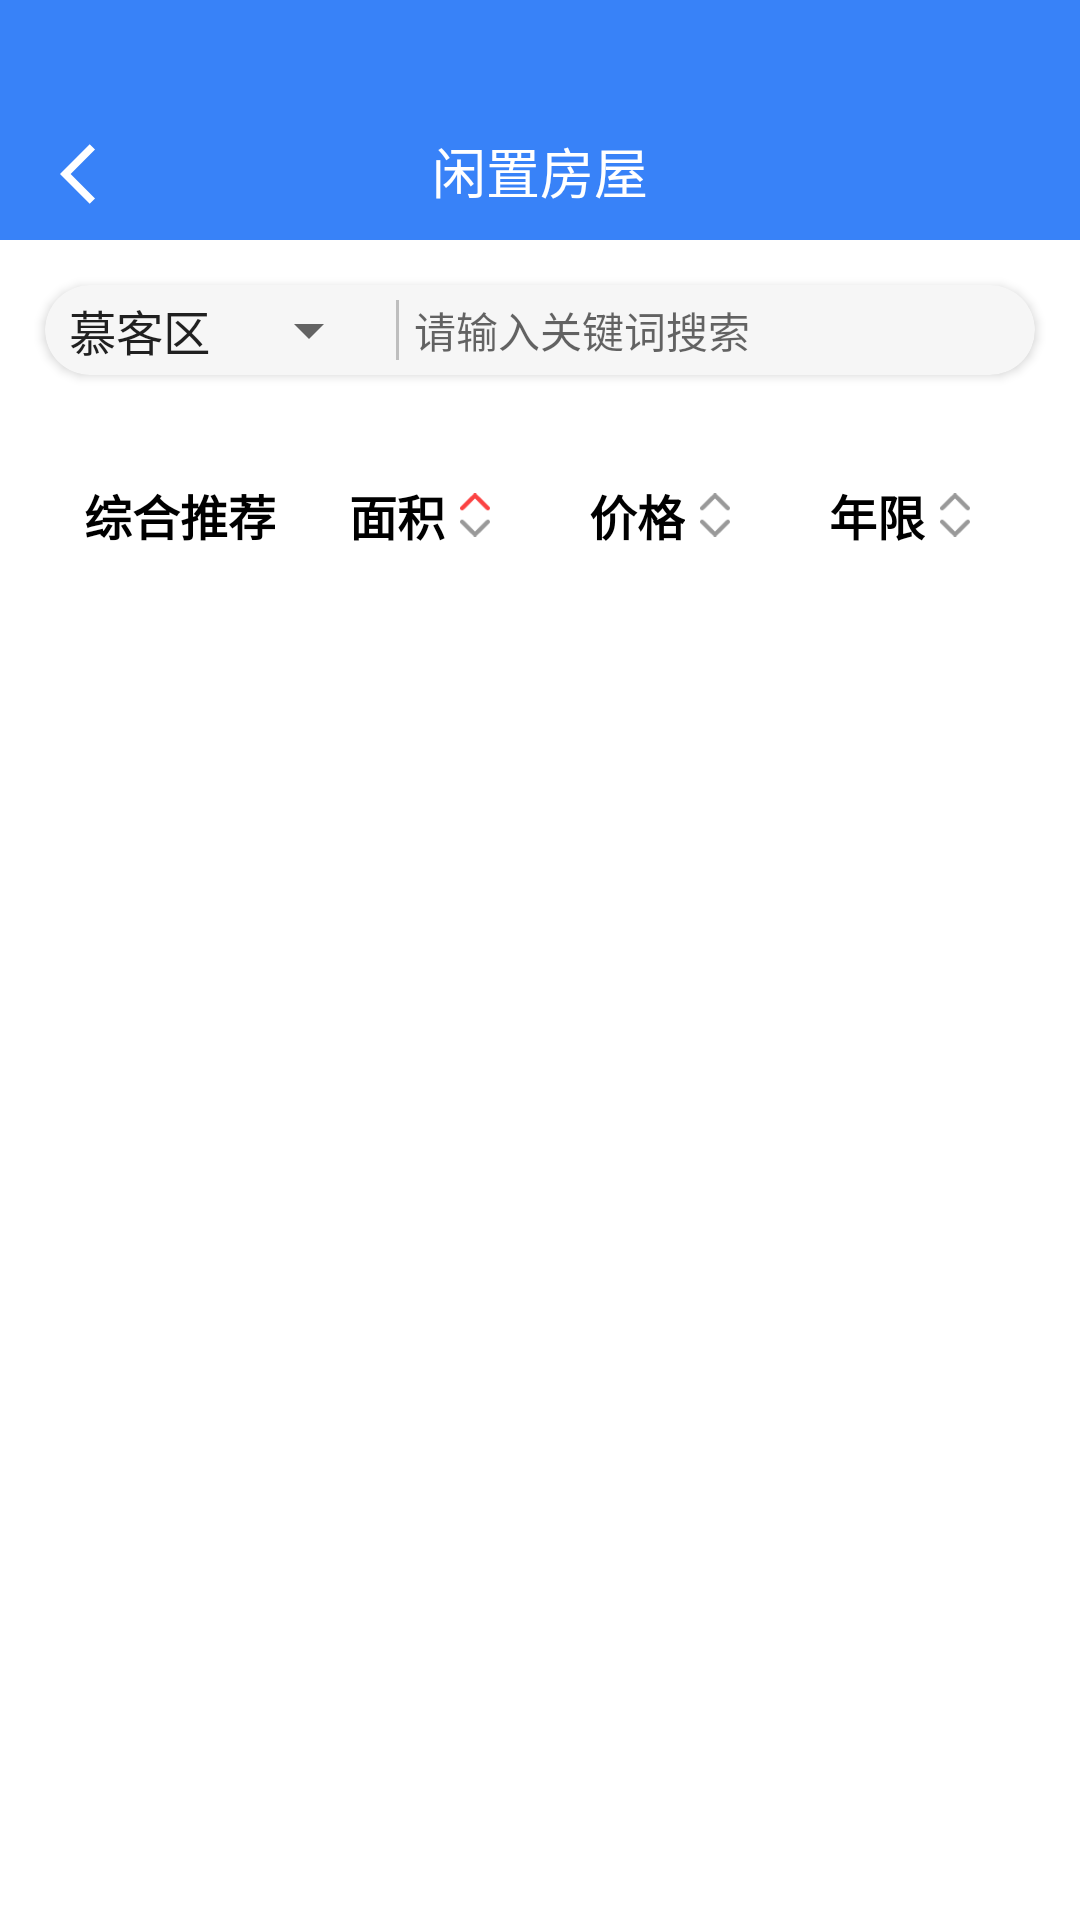

Point at icon controls on the screen. Image size 1080 × 1920, points as [x,y].
arrow left: [77,174]
